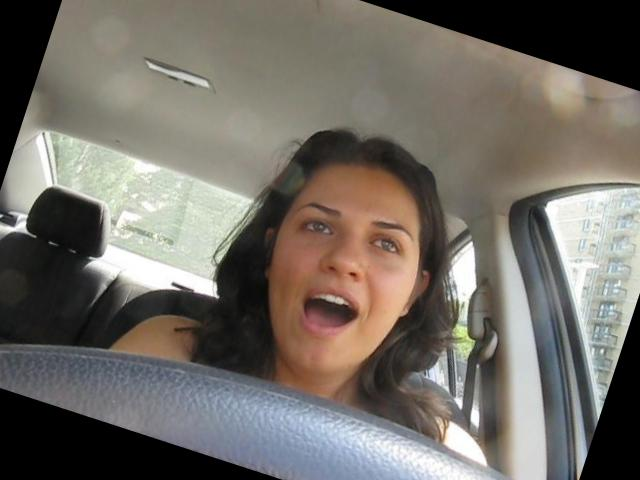eye_open: (364, 228, 412, 265), (294, 210, 340, 244)
face: (238, 175, 436, 398)
mouth_open: (287, 278, 372, 351)
